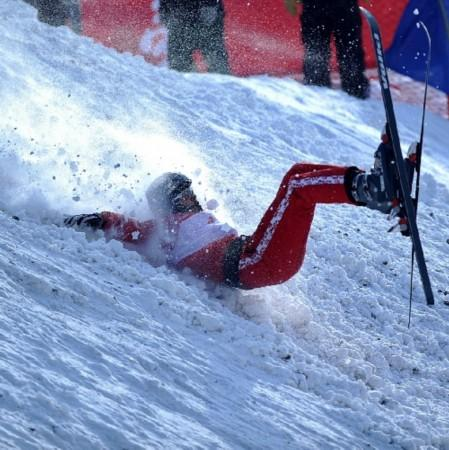fall: (46, 95, 441, 311)
